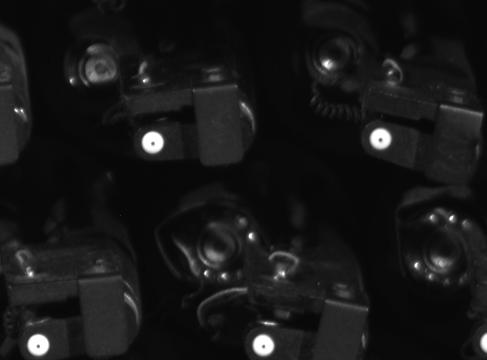fiber: (137, 126, 170, 160), (365, 123, 398, 154), (23, 331, 56, 360), (248, 330, 278, 360)
